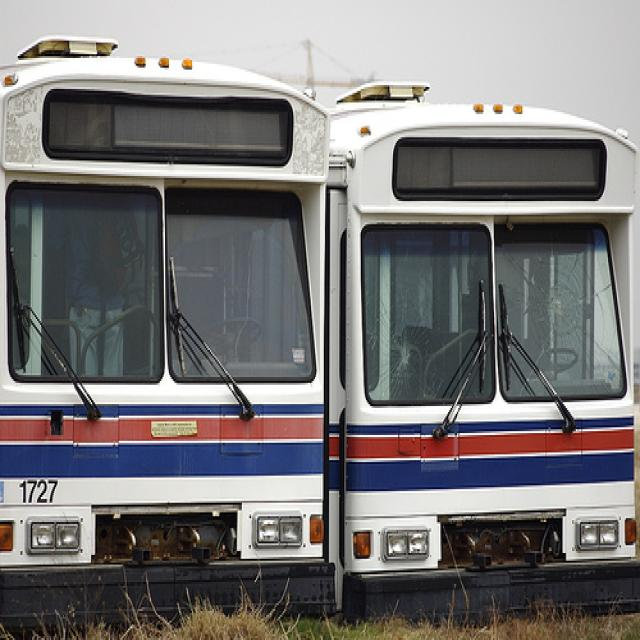bus: (1, 33, 327, 635), (324, 86, 640, 620)
